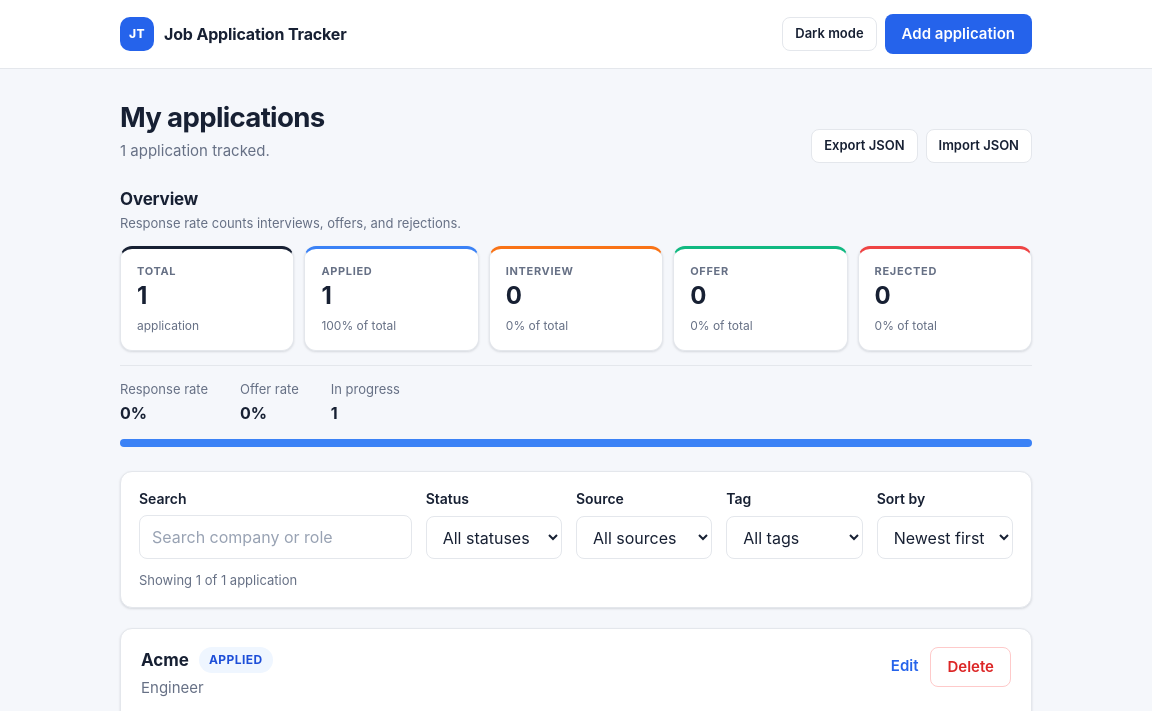
Test: confirms before deleting and supports undo
The image size is (1152, 711).
Click the button "Delete": coordinates (971, 666) [930,646,1011,686]
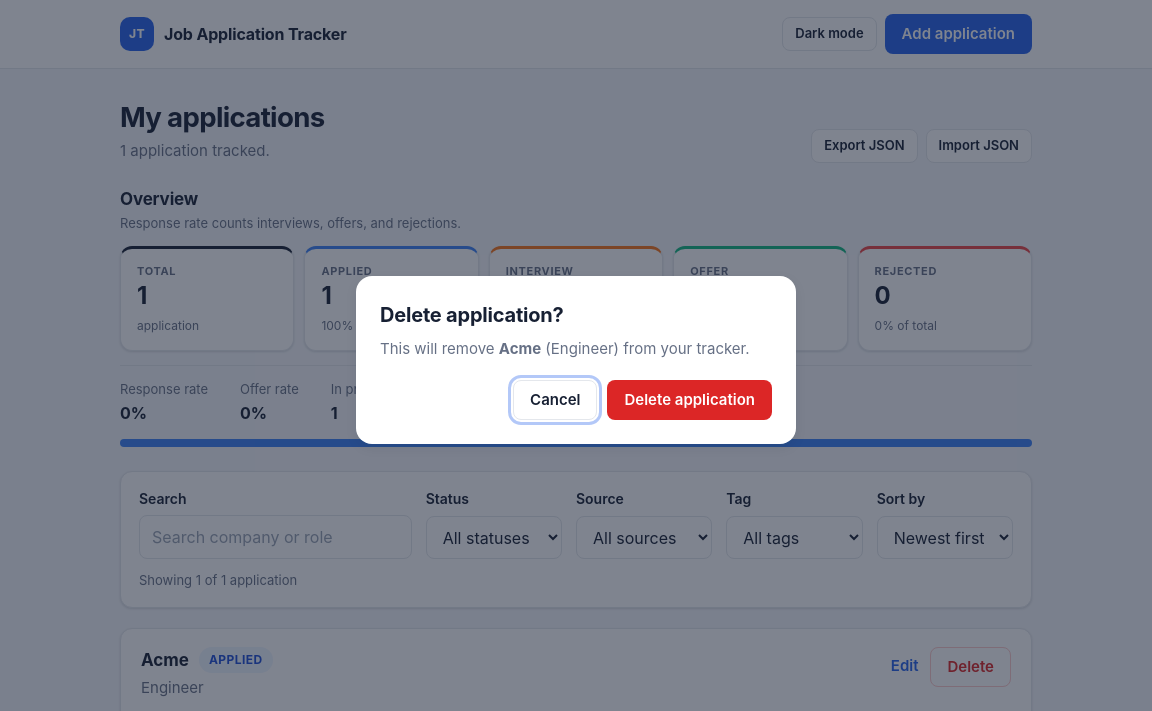
Check: the dialog shows "Delete application?", box [380,303,564,327]
Click the button "Cancel": coordinates (555, 400) [513,380,598,420]
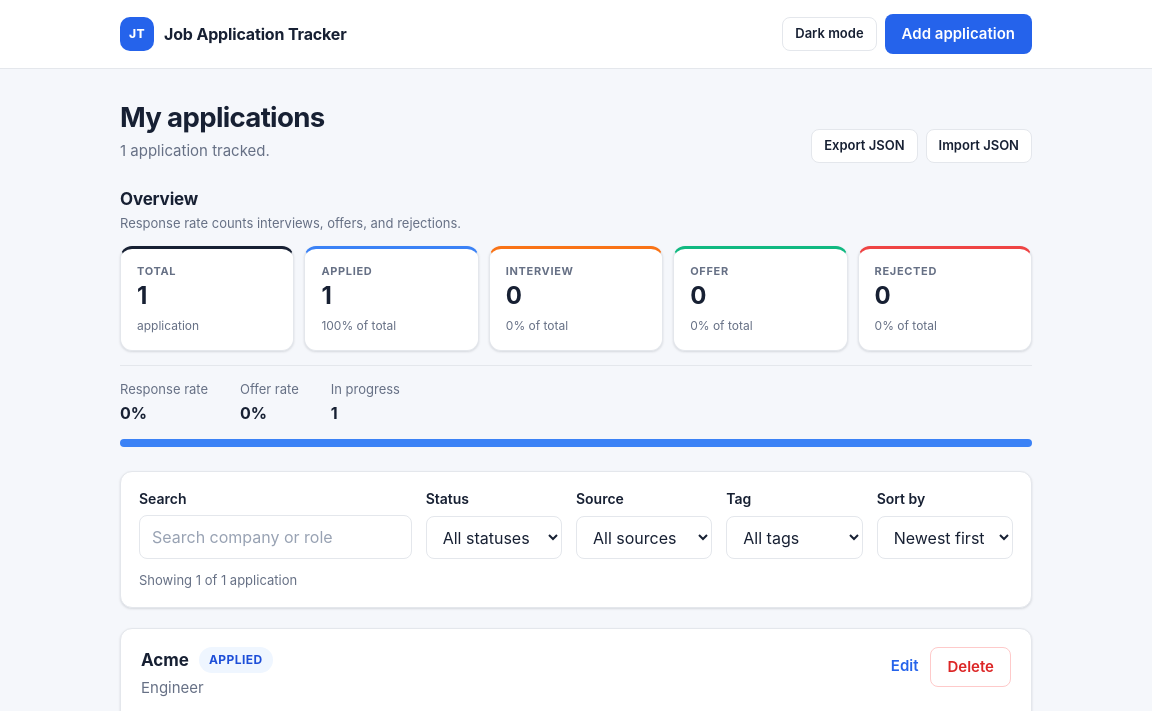
Check: the dialog is gone
Click the button "Delete": coordinates (971, 666) [930,646,1011,686]
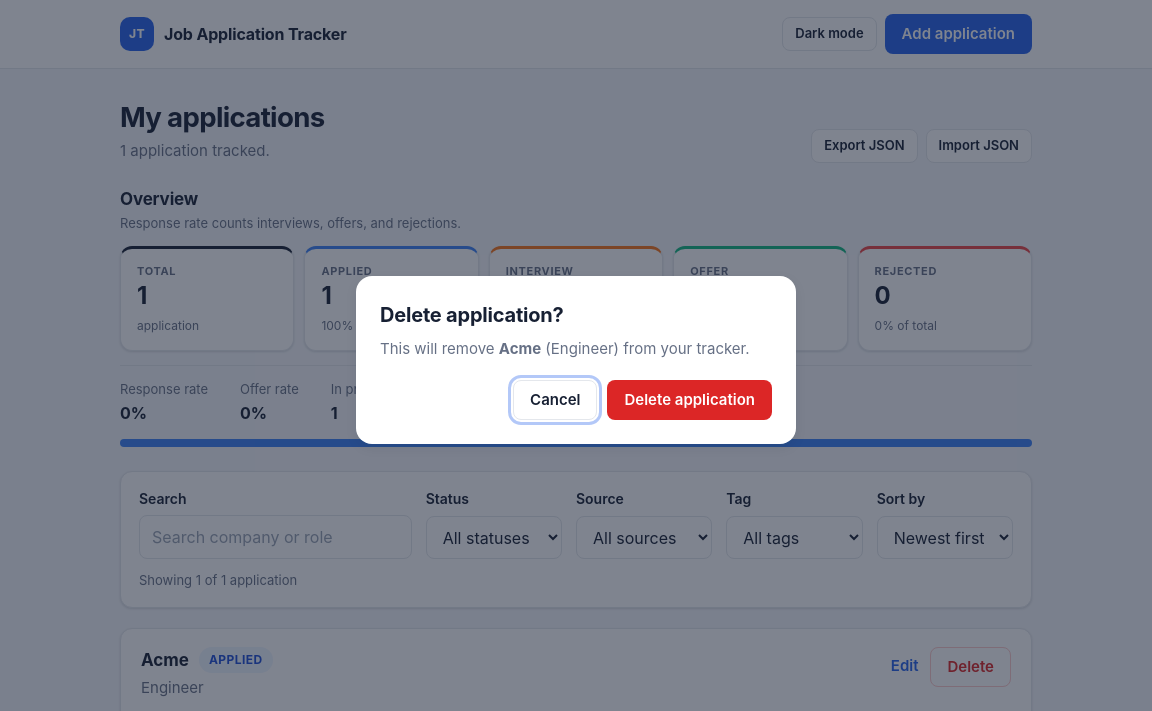
Click the button "Delete application": coordinates (690, 400) [608,380,772,420]
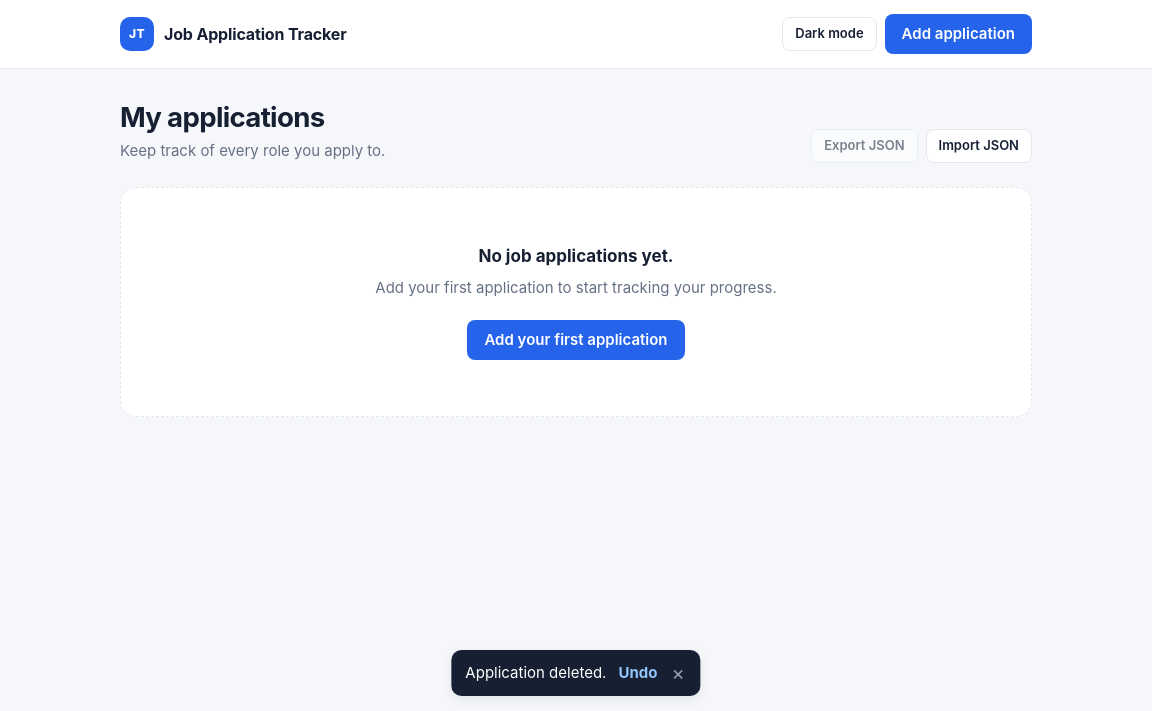
Check: the heading "No job applications yet." is shown, box [478,246,674,266]
Check: the message shows "Application deleted.", box [465,662,606,682]
Click the button "Undo": coordinates (638, 673) [618,662,657,684]
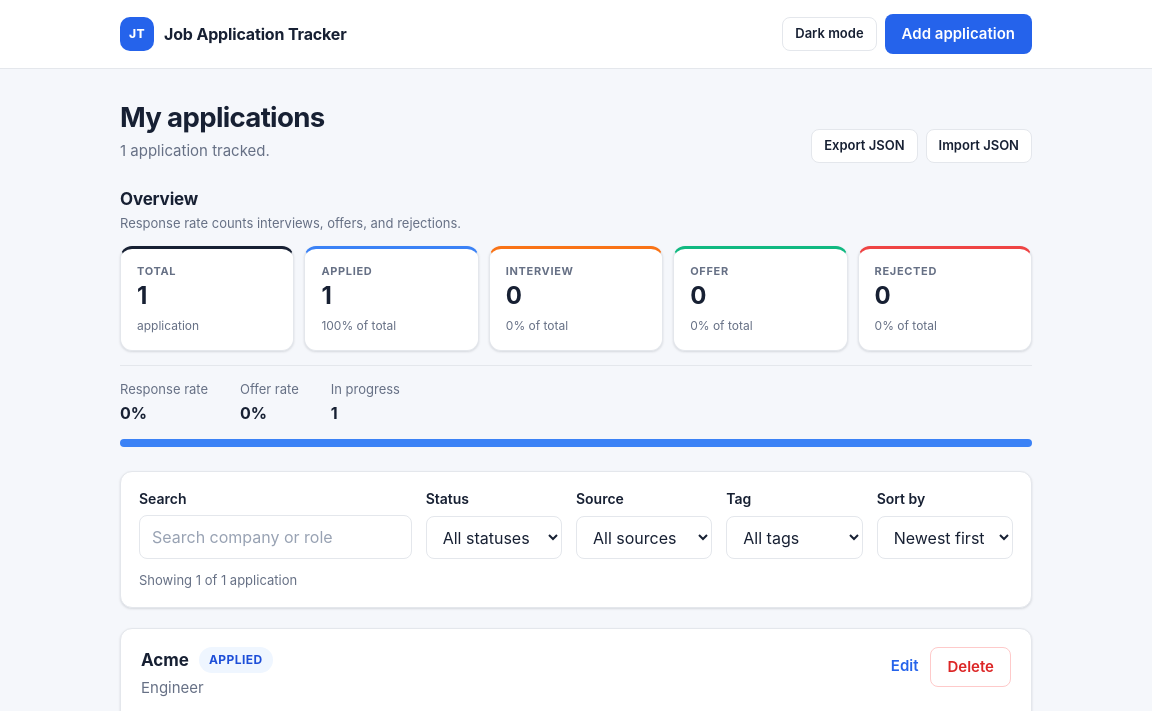
Check: the heading "Acme" is shown, box [141,648,189,671]
Check: the message "Application deleted. Undo ×" is gone
